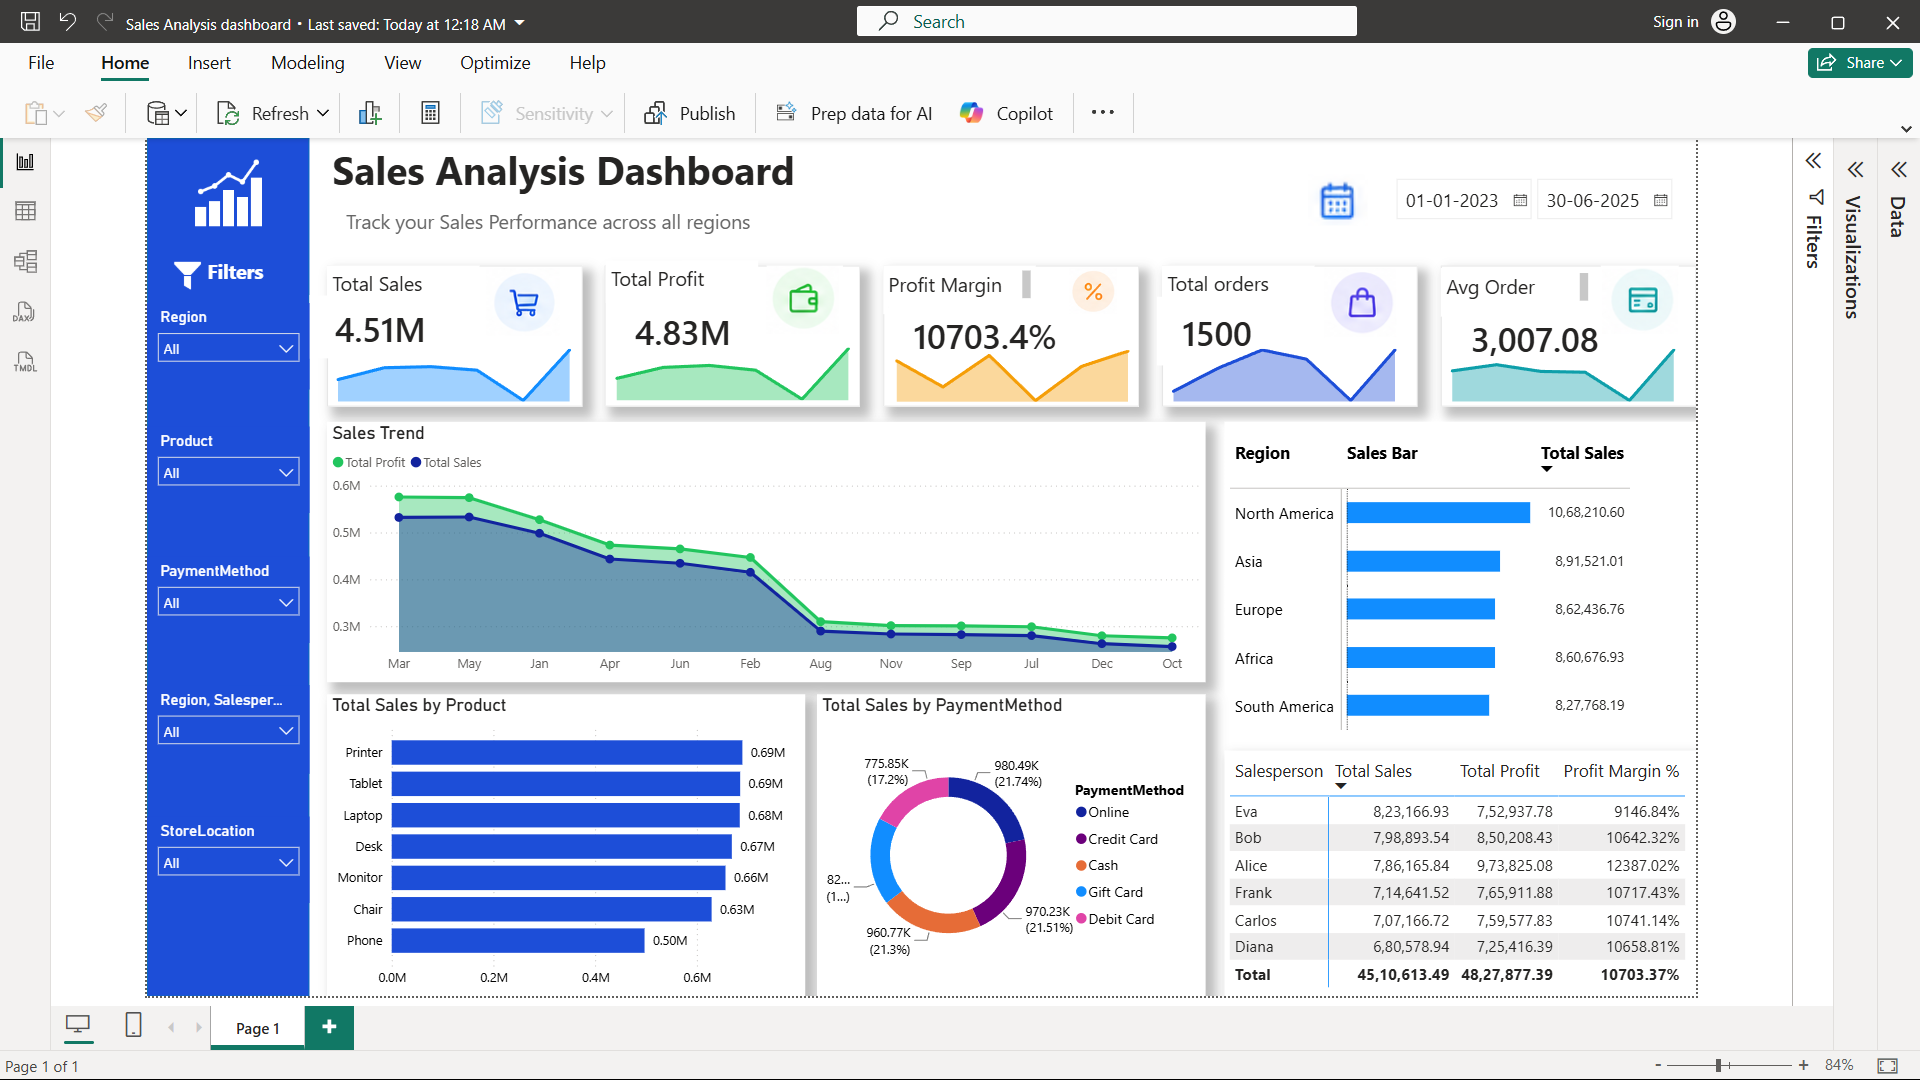

The page's visual inventory and layout, read from the dashboard file:
{"tool":"powerbi","page":{"name":"Page 1","canvas":[1480,820],"ordinal":0},"visuals":[{"type":"textbox","box":[171.5,0,1108.8,107],"z":0},{"type":"textbox","box":[185.2,61.7,417.2,45.3],"z":1000},{"type":"shape","box":[0,0,155,820],"z":2000},{"type":"shape","box":[171.4,122.2,244.3,134.9],"z":3000},{"type":"shape","box":[437.5,122.2,244.3,134.9],"z":4000},{"type":"shape","box":[703.7,122.2,244.3,134.9],"z":5000},{"type":"shape","box":[969.8,122.2,244.3,134.9],"z":6000},{"type":"shape","box":[1235.7,122.2,244.3,134.9],"z":7000},{"type":"textbox","box":[171.4,122.2,146,46],"z":8000},{"type":"textbox","box":[437.9,117.4,146,39.7],"z":9000},{"type":"textbox","box":[702.9,122.2,146,46],"z":10000},{"type":"textbox","box":[969.4,122.2,146,46],"z":11000},{"type":"textbox","box":[1236,123.8,146,46],"z":12000},{"type":"cardVisual","fields":{"Data":["Sum(Sales.Total Sales)"]},"box":[150.4,145.7,187.4,70.4],"z":13000},{"type":"cardVisual","fields":{"Data":["Sum(Sales.Profit)"]},"box":[437,145.2,177.5,76.6],"z":14000},{"type":"cardVisual","fields":{"Data":["Measure.Profit Margin %"]},"box":[703.2,151.9,212.4,71.3],"z":15000},{"type":"cardVisual","fields":{"Data":["Measure.Total Orders"]},"box":[959.9,146.9,145.7,75.2],"z":16000},{"type":"cardVisual","fields":{"Data":["Measure.Average Order Value"]},"box":[1236,152.3,184,76.2],"z":17000},{"type":"image","box":[307.8,123.8,107.9,66.6],"z":18000},{"type":"image","box":[574.4,122.2,107.9,66.6],"z":19000},{"type":"image","box":[860.5,123.7,87.4,44.4],"z":20000},{"type":"image","box":[1105.9,123.8,107.9,66.6],"z":21000},{"type":"image","box":[1372.4,122.2,107.9,66.6],"z":22000},{"type":"areaChart","fields":{"Y":["Measure.Total Sales"],"Category":["Calendar_Table.Year Month"]},"box":[160.2,188.8,266.6,68.2],"z":23000},{"type":"areaChart","fields":{"Y":["Measure.Total Profit"],"Category":["Calendar_Table.Year Month"]},"box":[426.8,187.2,266.6,68.2],"z":24000},{"type":"areaChart","fields":{"Y":["Measure.Profit Margin %"],"Category":["Calendar_Table.Year Month"]},"box":[693.8,189.6,266.2,67.2],"z":25000},{"type":"areaChart","fields":{"Y":["Measure.Total Orders"],"Category":["Calendar_Table.Year Month"]},"box":[958.3,188.8,255.4,68.2],"z":26000},{"type":"areaChart","fields":{"Y":["Measure.Average Order Value"],"Category":["Calendar_Table.Year Month"]},"box":[1224.9,188.8,255.4,68.2],"z":27000},{"type":"areaChart","title":"Sales Trend","fields":{"Category":["Calendar_Table.Month Short"],"Y":["Measure.Total Profit","Measure.Total Sales"]},"box":[171.4,271.3,839.3,249.1],"z":28000},{"type":"pivotTable","fields":{"Rows":["Sales.Region"],"Values":["Measure.Sales Bar","Measure.Total Sales"]},"box":[1029.7,271.3,450.6,299.9],"z":29000},{"type":"clusteredBarChart","fields":{"Category":["Sales.Product"],"Y":["Measure.Total Sales"]},"box":[171.4,531.5,456.9,288.8],"z":30000},{"type":"donutChart","fields":{"Y":["Measure.Total Sales"],"Category":["Sales.PaymentMethod"]},"box":[639.4,531.5,371.3,288.8],"z":31000},{"type":"pivotTable","fields":{"Rows":["Sales.Salesperson"],"Values":["Measure.Total Sales","Measure.Total Profit","Measure.Profit Margin %"]},"box":[1029.7,585.5,450.6,234.8],"z":32000},{"type":"slicer","fields":{"Values":["Sales.Region"]},"box":[0,157.1,155.5,82.5],"z":33000},{"type":"slicer","fields":{"Values":["Sales.Product"]},"box":[0,275.8,155.5,82.5],"z":34000},{"type":"slicer","fields":{"Values":["Sales.PaymentMethod"]},"box":[0,399.5,155.5,82.5],"z":35000},{"type":"slicer","fields":{"Values":["Sales.Region","Sales.Salesperson"]},"box":[0,523.3,155.5,84.1],"z":36000},{"type":"slicer","fields":{"Values":["Sales.StoreLocation"]},"box":[0,648.6,155.5,82.5],"z":37000},{"type":"textbox","box":[52.4,109.5,79.3,47.6],"z":38000},{"type":"image","box":[11.1,117.4,55.5,28.6],"z":39000},{"type":"image","box":[23.8,17.5,107.9,66.6],"z":40000},{"type":"slicer","fields":{"Values":["Calendar_Table.Date"]},"box":[1180.4,28.6,299.9,80.9],"z":41000},{"type":"image","box":[1093.2,34.9,87.3,49.2],"z":42000}]}

Visuals, with their boxes on the page's 1480x820 design canvas (x1, y1, x2, y2). These are canvas units, not pixel positions in the 1920x1080 screenshot, which may show the page scaled, cropped or inside an application window:
textbox: {"left": 172, "top": 0, "right": 1280, "bottom": 107}
textbox: {"left": 185, "top": 62, "right": 602, "bottom": 107}
shape: {"left": 0, "top": 0, "right": 155, "bottom": 820}
shape: {"left": 171, "top": 122, "right": 416, "bottom": 257}
shape: {"left": 438, "top": 122, "right": 682, "bottom": 257}
shape: {"left": 704, "top": 122, "right": 948, "bottom": 257}
shape: {"left": 970, "top": 122, "right": 1214, "bottom": 257}
shape: {"left": 1236, "top": 122, "right": 1480, "bottom": 257}
textbox: {"left": 171, "top": 122, "right": 317, "bottom": 168}
textbox: {"left": 438, "top": 117, "right": 584, "bottom": 157}
textbox: {"left": 703, "top": 122, "right": 849, "bottom": 168}
textbox: {"left": 969, "top": 122, "right": 1115, "bottom": 168}
textbox: {"left": 1236, "top": 124, "right": 1382, "bottom": 170}
cardVisual - Sum(Sales.Total Sales): {"left": 150, "top": 146, "right": 338, "bottom": 216}
cardVisual - Sum(Sales.Profit): {"left": 437, "top": 145, "right": 614, "bottom": 222}
cardVisual - Measure.Profit Margin %: {"left": 703, "top": 152, "right": 916, "bottom": 223}
cardVisual - Measure.Total Orders: {"left": 960, "top": 147, "right": 1106, "bottom": 222}
cardVisual - Measure.Average Order Value: {"left": 1236, "top": 152, "right": 1420, "bottom": 228}
image: {"left": 308, "top": 124, "right": 416, "bottom": 190}
image: {"left": 574, "top": 122, "right": 682, "bottom": 189}
image: {"left": 860, "top": 124, "right": 948, "bottom": 168}
image: {"left": 1106, "top": 124, "right": 1214, "bottom": 190}
image: {"left": 1372, "top": 122, "right": 1480, "bottom": 189}
areaChart - Measure.Total Sales x Calendar_Table.Year Month: {"left": 160, "top": 189, "right": 427, "bottom": 257}
areaChart - Measure.Total Profit x Calendar_Table.Year Month: {"left": 427, "top": 187, "right": 693, "bottom": 255}
areaChart - Measure.Profit Margin % x Calendar_Table.Year Month: {"left": 694, "top": 190, "right": 960, "bottom": 257}
areaChart - Measure.Total Orders x Calendar_Table.Year Month: {"left": 958, "top": 189, "right": 1214, "bottom": 257}
areaChart - Measure.Average Order Value x Calendar_Table.Year Month: {"left": 1225, "top": 189, "right": 1480, "bottom": 257}
"Sales Trend" areaChart: {"left": 171, "top": 271, "right": 1011, "bottom": 520}
pivotTable - Sales.Region x Measure.Sales Bar: {"left": 1030, "top": 271, "right": 1480, "bottom": 571}
clusteredBarChart - Sales.Product x Measure.Total Sales: {"left": 171, "top": 532, "right": 628, "bottom": 820}
donutChart - Measure.Total Sales x Sales.PaymentMethod: {"left": 639, "top": 532, "right": 1011, "bottom": 820}
pivotTable - Sales.Salesperson x Measure.Total Sales: {"left": 1030, "top": 586, "right": 1480, "bottom": 820}
slicer - Sales.Region: {"left": 0, "top": 157, "right": 156, "bottom": 240}
slicer - Sales.Product: {"left": 0, "top": 276, "right": 156, "bottom": 358}
slicer - Sales.PaymentMethod: {"left": 0, "top": 400, "right": 156, "bottom": 482}
slicer - Sales.Region x Sales.Salesperson: {"left": 0, "top": 523, "right": 156, "bottom": 607}
slicer - Sales.StoreLocation: {"left": 0, "top": 649, "right": 156, "bottom": 731}
textbox: {"left": 52, "top": 110, "right": 132, "bottom": 157}
image: {"left": 11, "top": 117, "right": 67, "bottom": 146}
image: {"left": 24, "top": 18, "right": 132, "bottom": 84}
slicer - Calendar_Table.Date: {"left": 1180, "top": 29, "right": 1480, "bottom": 110}
image: {"left": 1093, "top": 35, "right": 1180, "bottom": 84}
